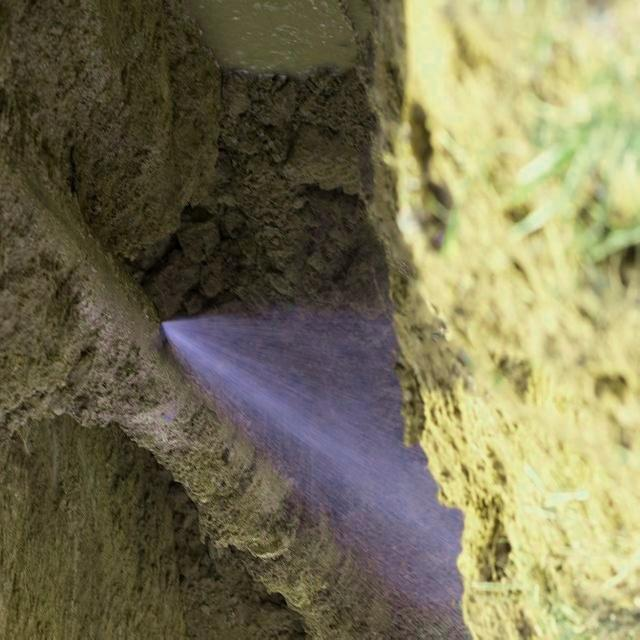pipe burst: (150, 309, 472, 614)
